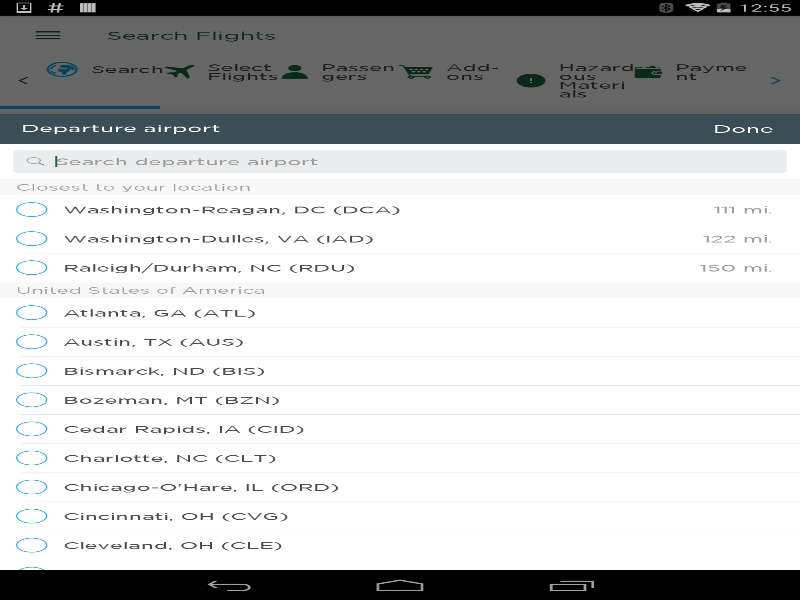Input: (13, 150, 786, 172)
